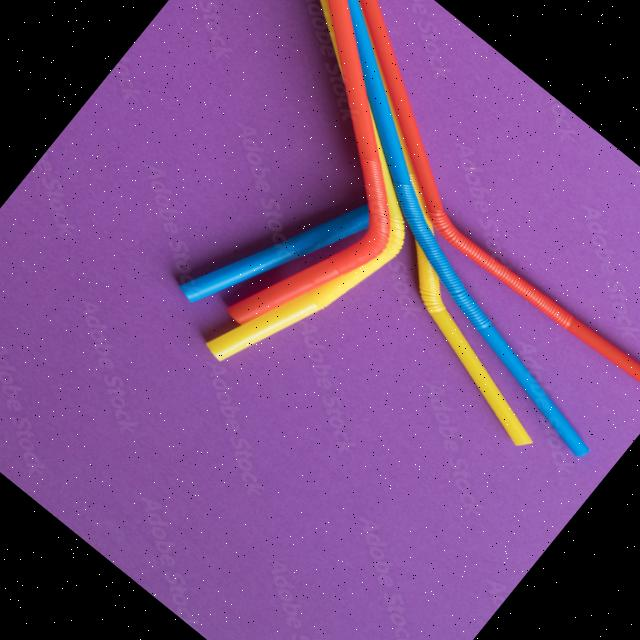plastic: (402, 169, 640, 414)
